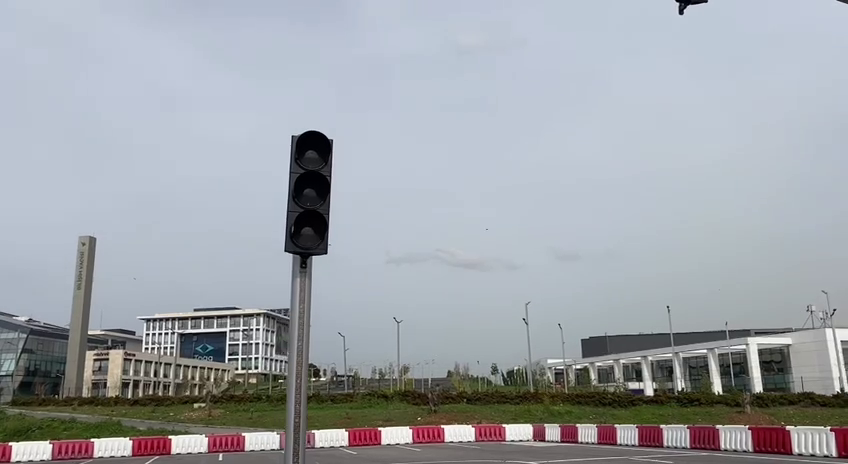trafficLight: (277, 126, 338, 260)
